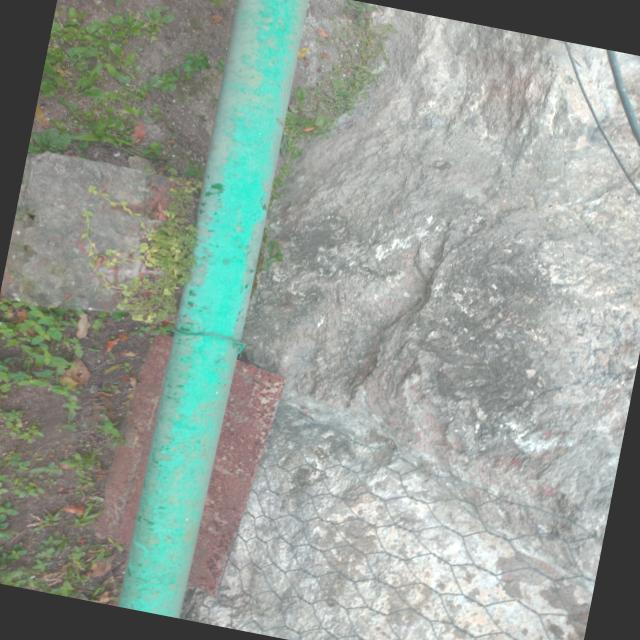gas: (117, 0, 308, 620)
